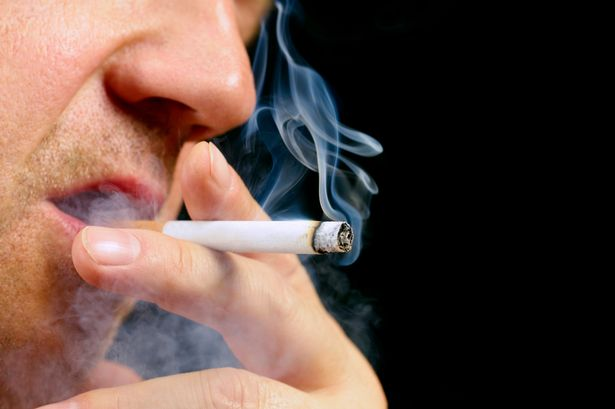cigarette: (94, 199, 378, 266)
